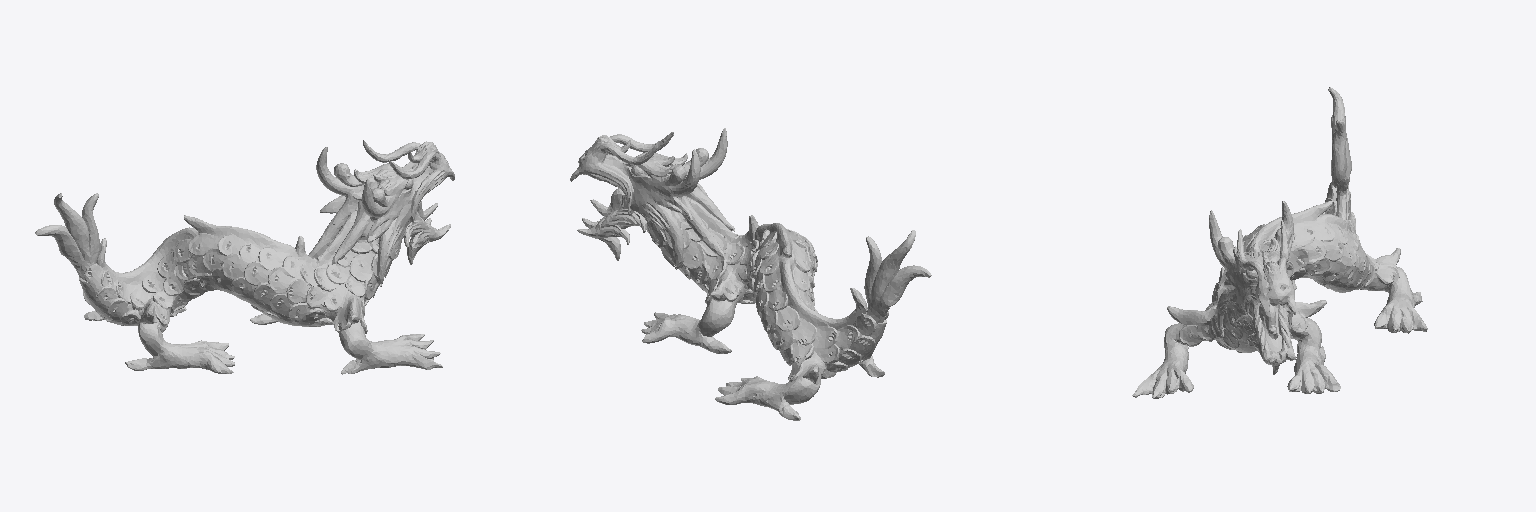
Rendered from asian_dragon.obj.
3 views of the same model, side by side, from view 1: azimuth 30°, elevation 25°; view 2: azimuth 150°, elevation 25°; view 3: azimuth 270°, elevation 25° (orthographic).
Parts seen in each view (by area): view 1: asian_dragon; view 2: asian_dragon; view 3: asian_dragon.
Boxes of the visible parts, x1=… form: asian_dragon: x1=35, y1=140, x2=454, y2=374; asian_dragon: x1=570, y1=128, x2=931, y2=420; asian_dragon: x1=1132, y1=87, x2=1427, y2=398.
Size of the model in its own units: 50.46 by 22.66 by 33.59.